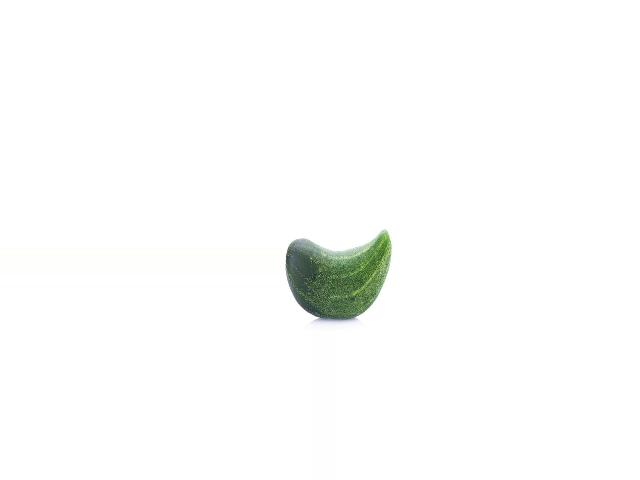cucumber: (285, 230, 392, 319)
